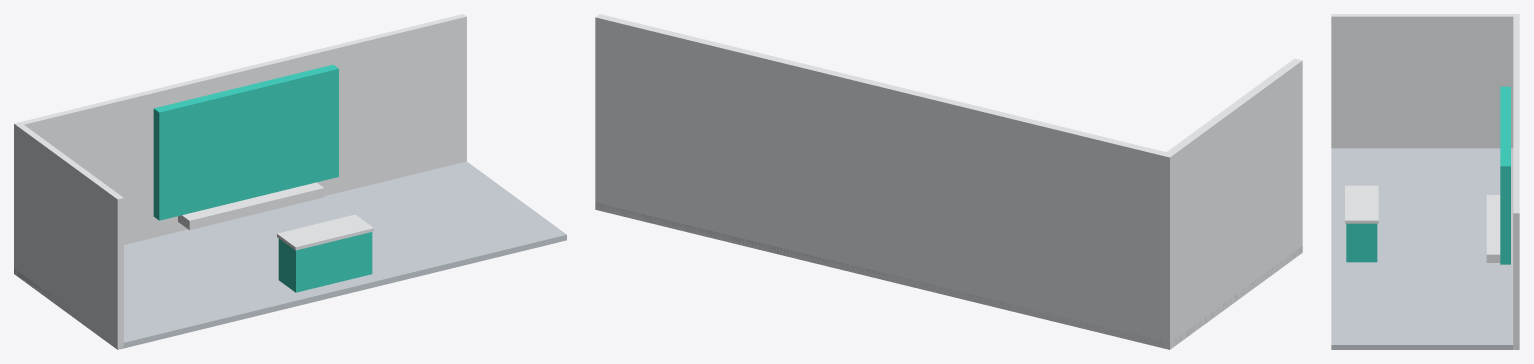
3 renders of one model, left to right at view 1: azimuth 30°, elevation 25°; view 2: azimuth 150°, elevation 25°; view 3: azimuth 270°, elevation 25°, orthographic. The views are drawn at different scales.
Visible parts, largest first — view 1: Exhibition Booth Concept; view 2: Exhibition Booth Concept; view 3: Exhibition Booth Concept.
Boxes of the visible parts, x1,y1,x2,y2 form: Exhibition Booth Concept: [14, 14, 566, 349]; Exhibition Booth Concept: [595, 14, 1302, 349]; Exhibition Booth Concept: [1331, 14, 1519, 349].
Bounding box in the file's own units: 10 × 3.2 × 4.
